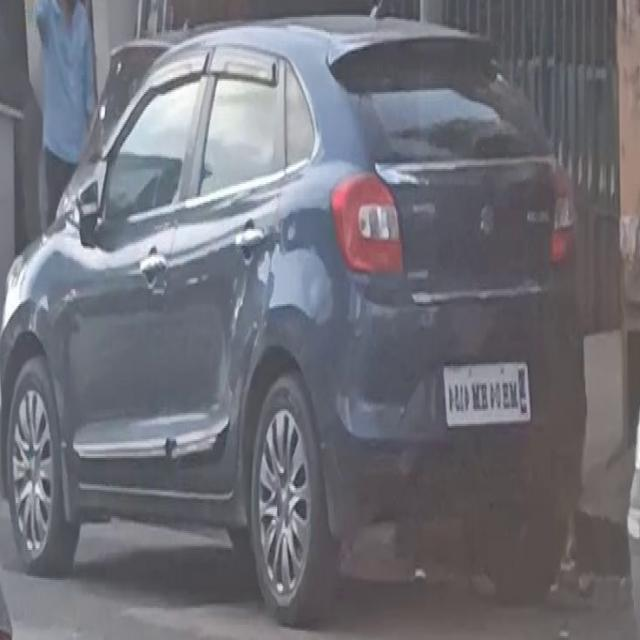license_plate: (439, 344, 534, 436)
